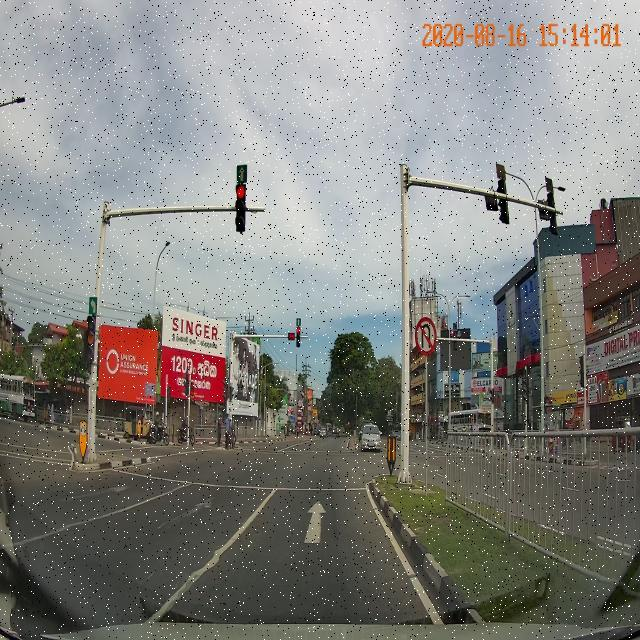forward: (193, 492, 409, 559)
